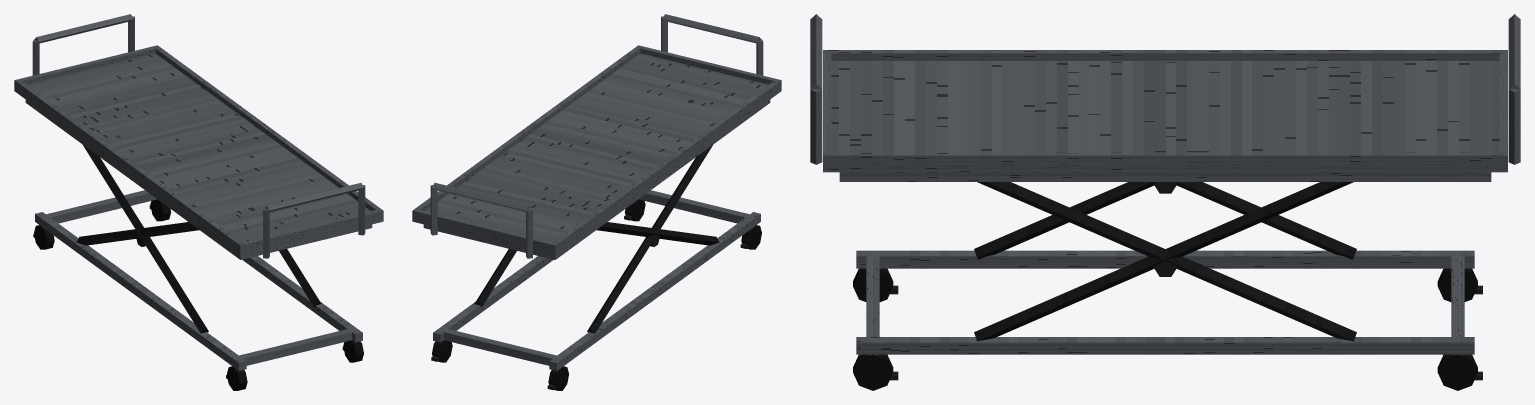
The model's file is morgue_gurney_command_bridge.glb.
3 views of the same model, side by side, from view 1: azimuth 30°, elevation 25°; view 2: azimuth 150°, elevation 25°; view 3: azimuth 270°, elevation 25° (orthographic). The views are drawn at different scales.
Visible parts, largest first — view 1: morgue_gurney_command_bridge; view 2: morgue_gurney_command_bridge; view 3: morgue_gurney_command_bridge.
Part boxes in pixels (bbox=[...]): morgue_gurney_command_bridge: bbox=[14, 14, 383, 390]; morgue_gurney_command_bridge: bbox=[412, 14, 781, 390]; morgue_gurney_command_bridge: bbox=[810, 14, 1520, 390].
Bounding box in the file's own units: 0.75 × 0.978 × 2.13.
3 materials, 3 textured.
